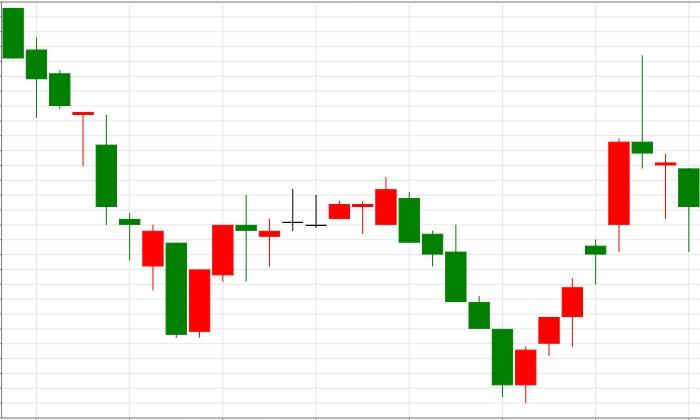three_white_soldiers_rise: (399, 192, 584, 404)
